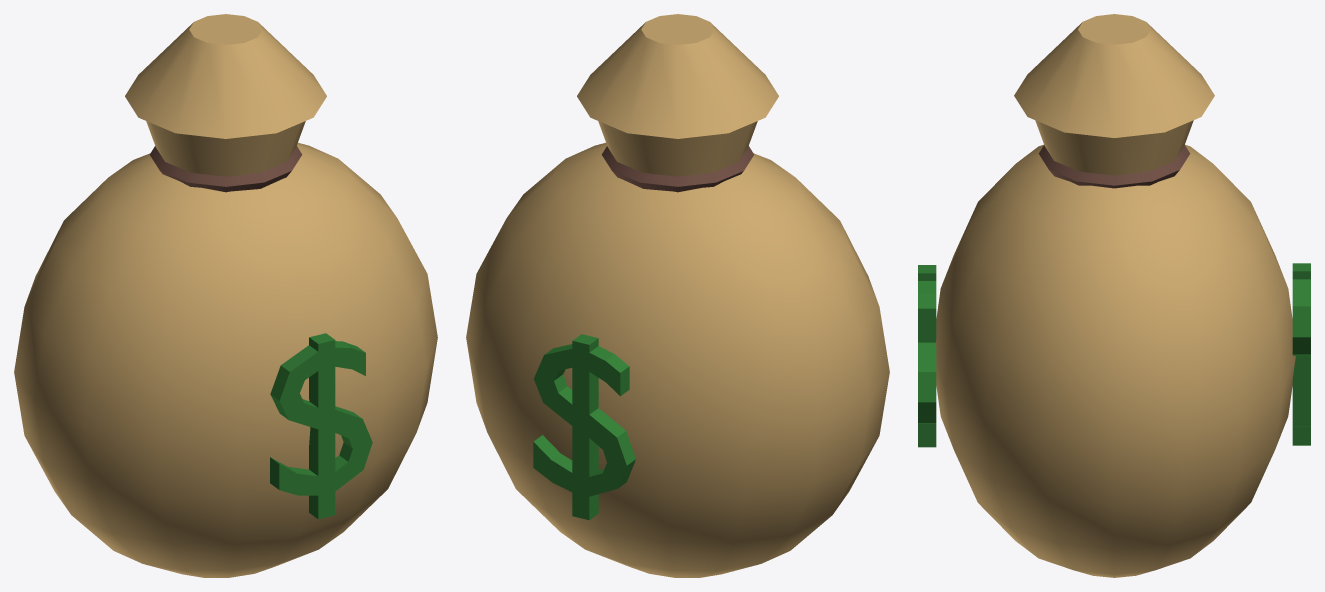
The model's file is hustle_moneybag.glb.
3 renders of one model, left to right at view 1: azimuth 30°, elevation 25°; view 2: azimuth 150°, elevation 25°; view 3: azimuth 270°, elevation 25°, orthographic.
Parts seen in each view (by area): view 1: MoneyBag_body; view 2: MoneyBag_body; view 3: MoneyBag_body.
Part boxes in pixels (left/top/right/bottom): MoneyBag_body: left=14, top=14, right=437, bottom=577; MoneyBag_body: left=466, top=14, right=889, bottom=577; MoneyBag_body: left=918, top=14, right=1310, bottom=577.
Size of the model in its own units: 0.48 by 0.64 by 0.43.
